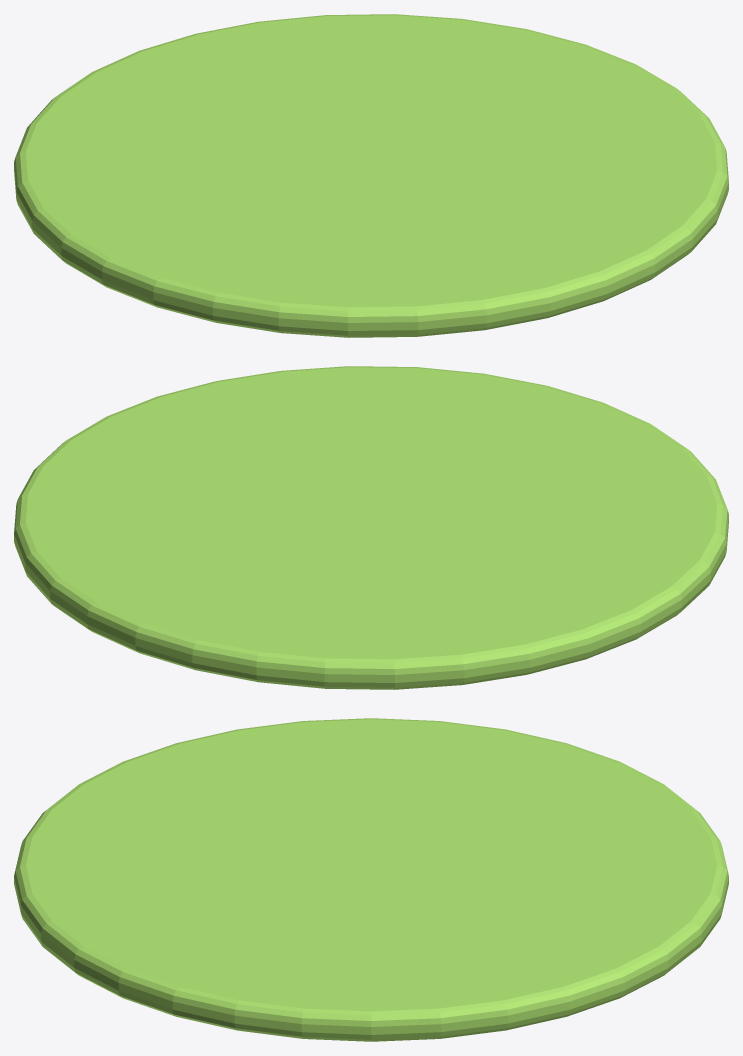
The model's file is Lilypad3.fbx.
The picture shows the model from 3 angles, top to bottom: view 1: azimuth 30°, elevation 25°; view 2: azimuth 150°, elevation 25°; view 3: azimuth 270°, elevation 25°; orthographic projection.
Parts seen in each view (by area): view 1: Cylinder.001; view 2: Cylinder.001; view 3: Cylinder.001.
Part boxes in pixels (<box>): Cylinder.001: <box>14,14,728,337</box>; Cylinder.001: <box>14,366,728,689</box>; Cylinder.001: <box>14,718,728,1041</box>.
Size of the model in its own units: 385 by 17.4 by 385.
